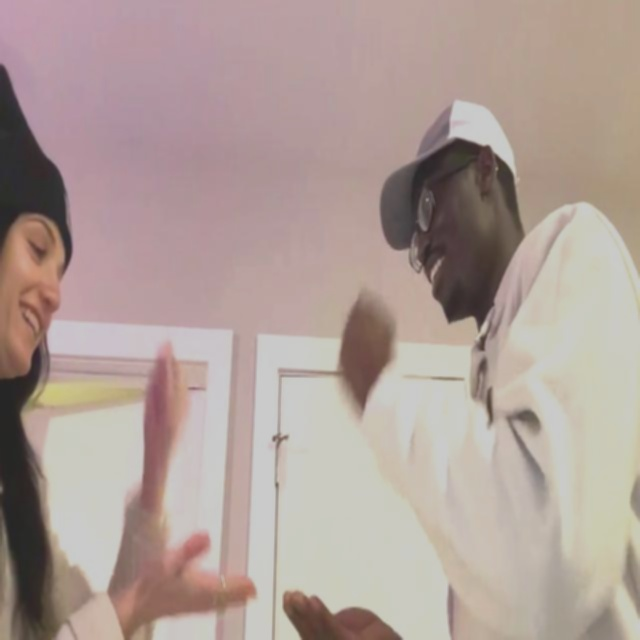Rock: (339, 294, 395, 409), (142, 329, 190, 452)
